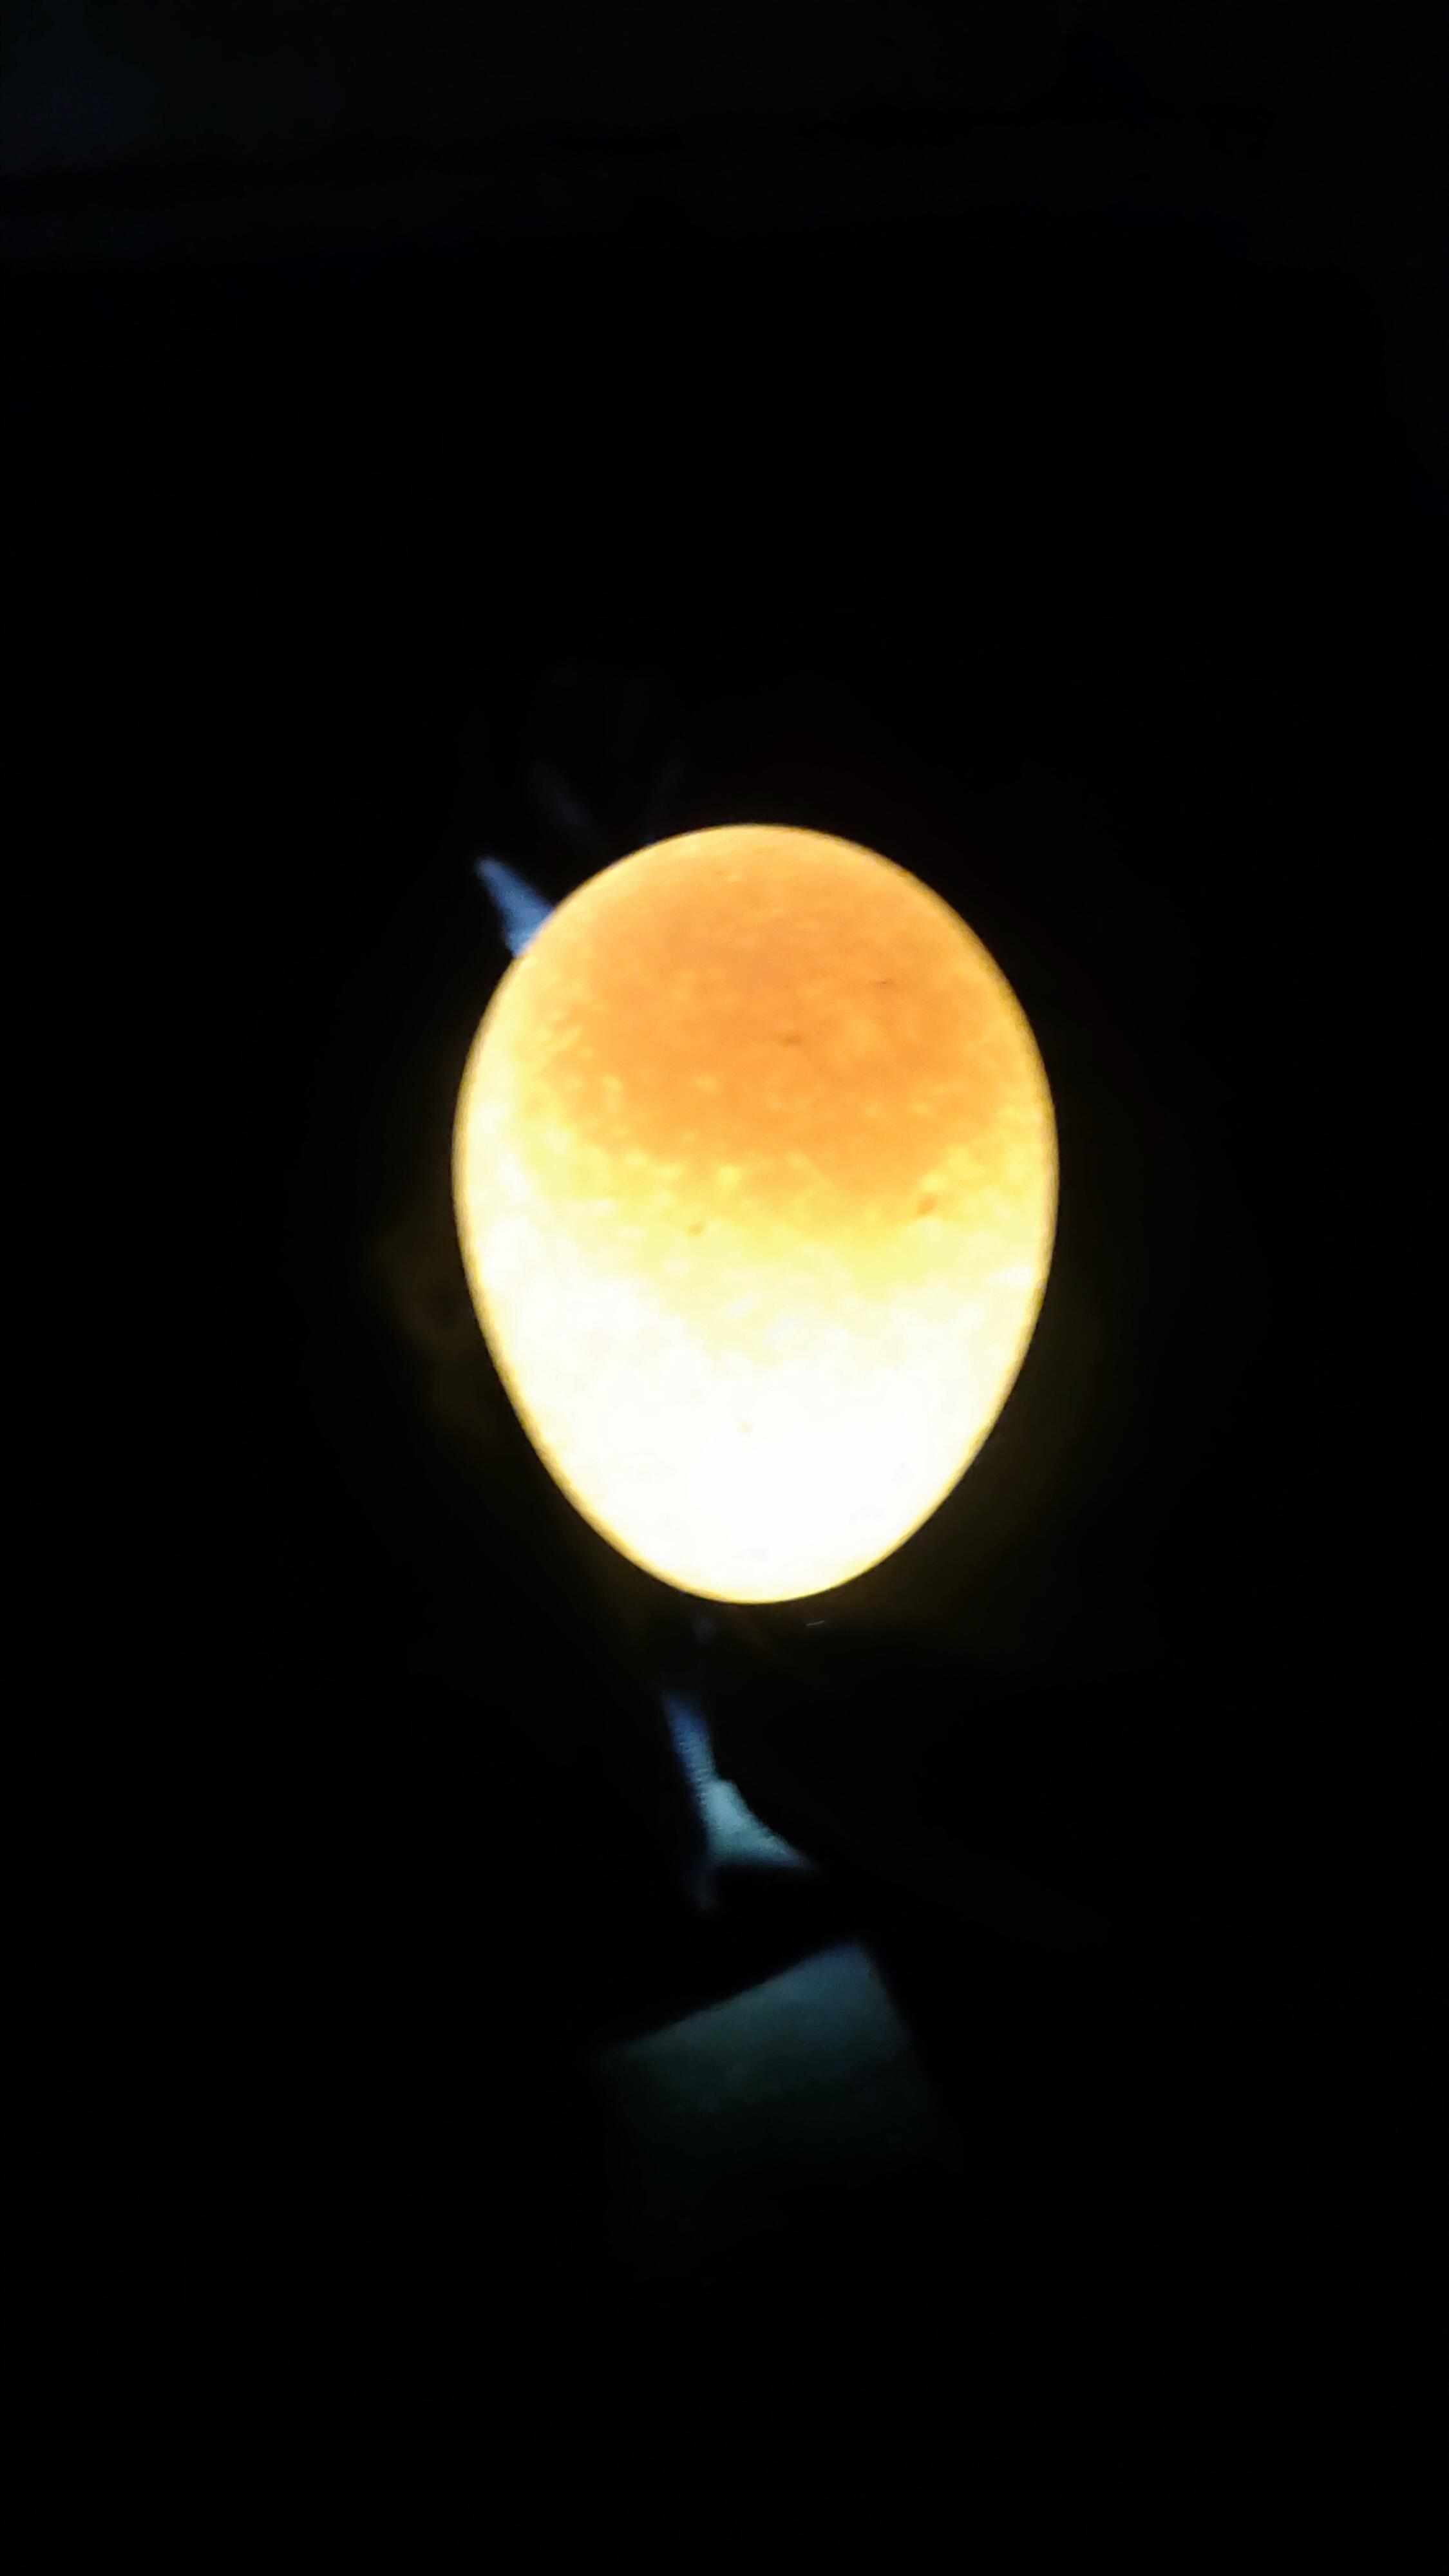Inedible: (400, 766, 1108, 1681)
